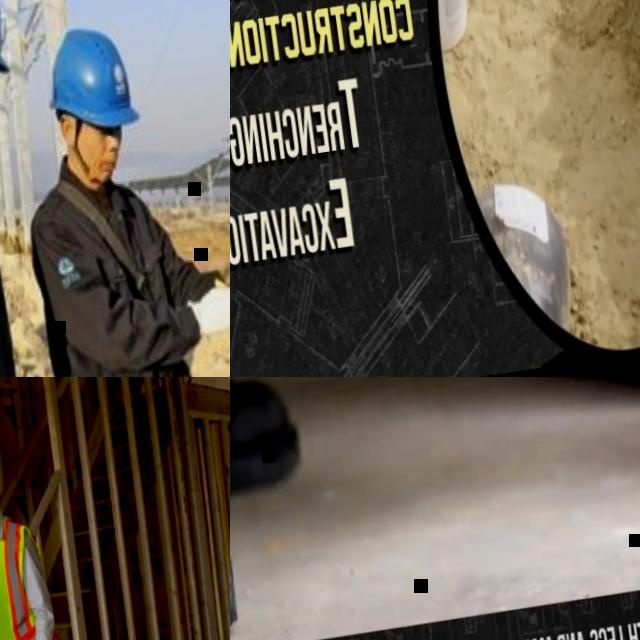Hardhat: (42, 19, 145, 137)
NO-Mask: (85, 150, 119, 186)
NO-Safety Vest: (33, 186, 194, 377)
Person: (230, 377, 558, 640), (0, 3, 230, 377), (0, 0, 64, 377), (0, 443, 109, 640)
Safety Vest: (0, 509, 69, 640)
